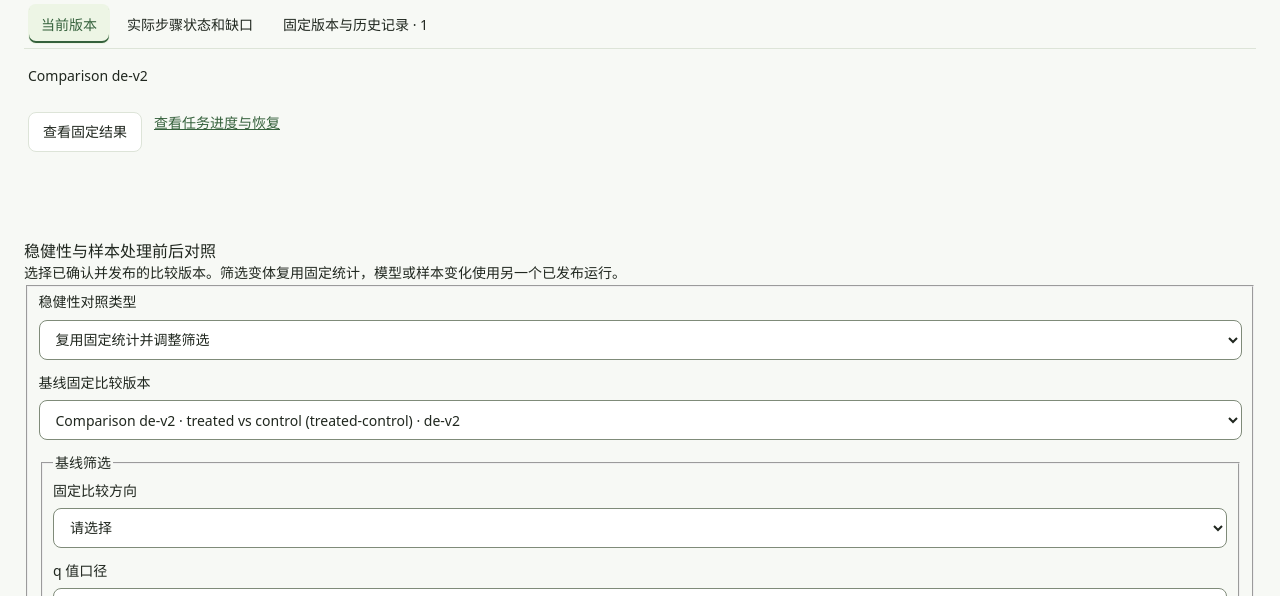
Test: reviews two fixed sensitivity modes and restores the selected alternative after reopening
The width and height of the screenshot is (1280, 596).
Earlier steps of the test are not shown.
Later steps or results of the test are not shown.
Select "treated vs control (treated-control)" in the dropdown labelled "固定比较方向" at (640, 528), box [53,508,1227,548]
(page scrolled)
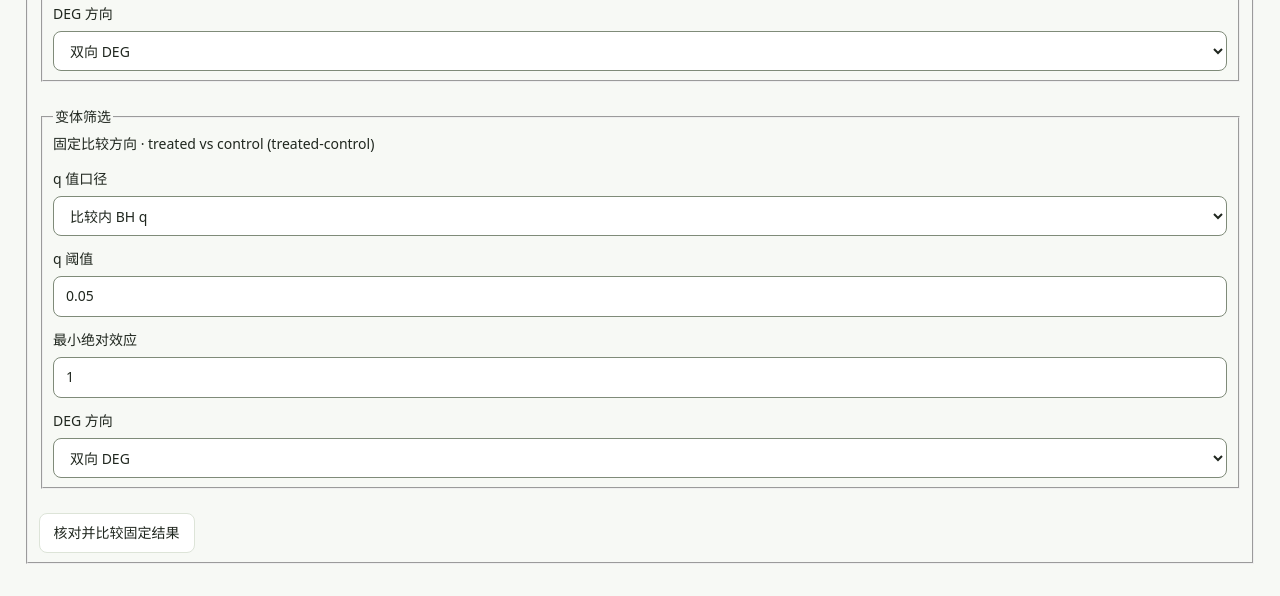
Replace the text in the number field labelled "q 阈值" below "treated vs control (treated-control)" with "0.02" at (640, 297), box [53,276,1227,317]
Click the button "核对并比较固定结果".
click(116, 533)  # box [38,513,194,553]
(page scrolled)
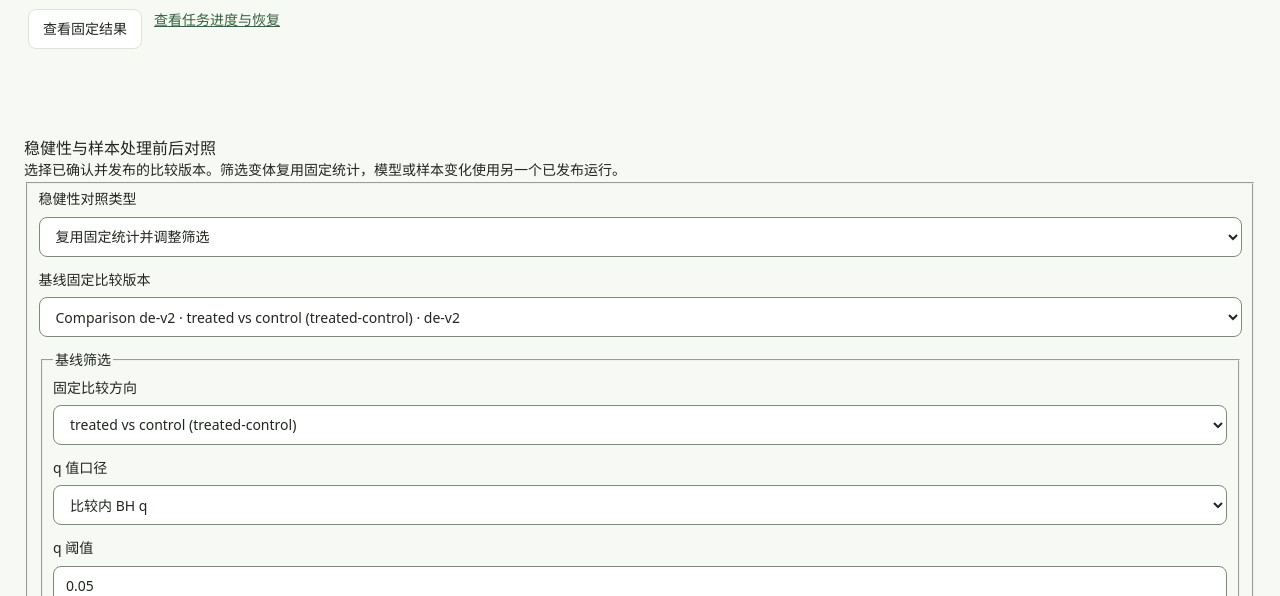
Select "比较独立固定运行与样本处理前后" in the dropdown labelled "稳健性对照类型" at (640, 237), box [38,217,1242,257]
(page scrolled)
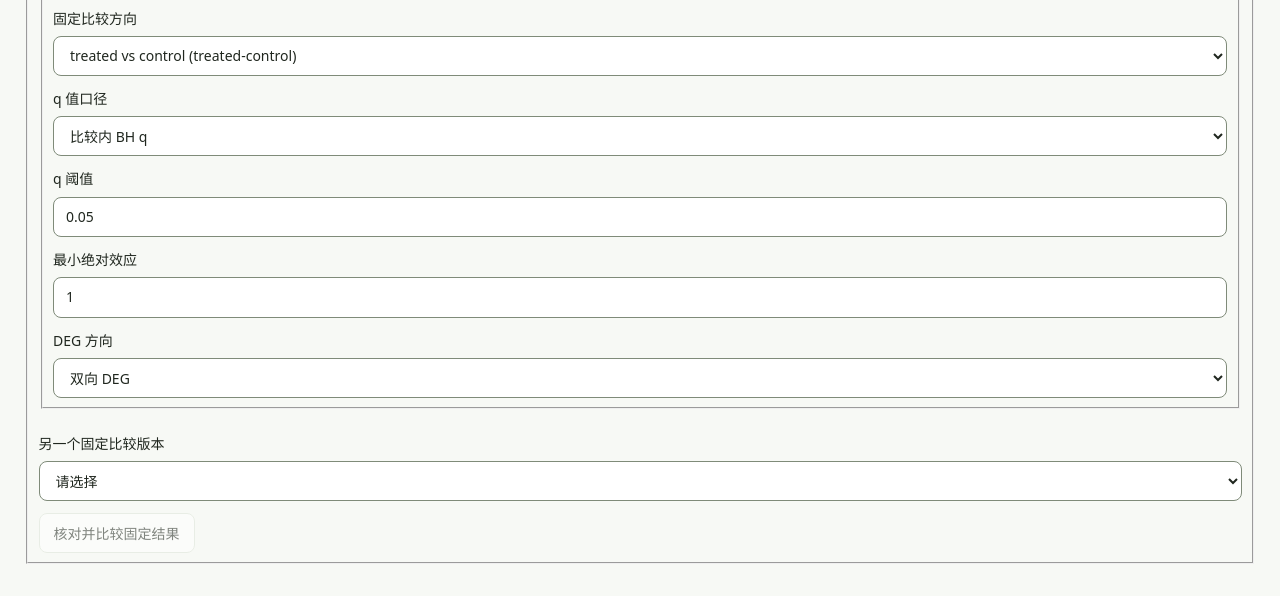
Select "Comparison de-v1 · treated vs control (variant-treated-control) · de-v1" in the dropdown labelled "另一个固定比较版本" at (640, 481), box [38,461,1242,501]
(page scrolled)
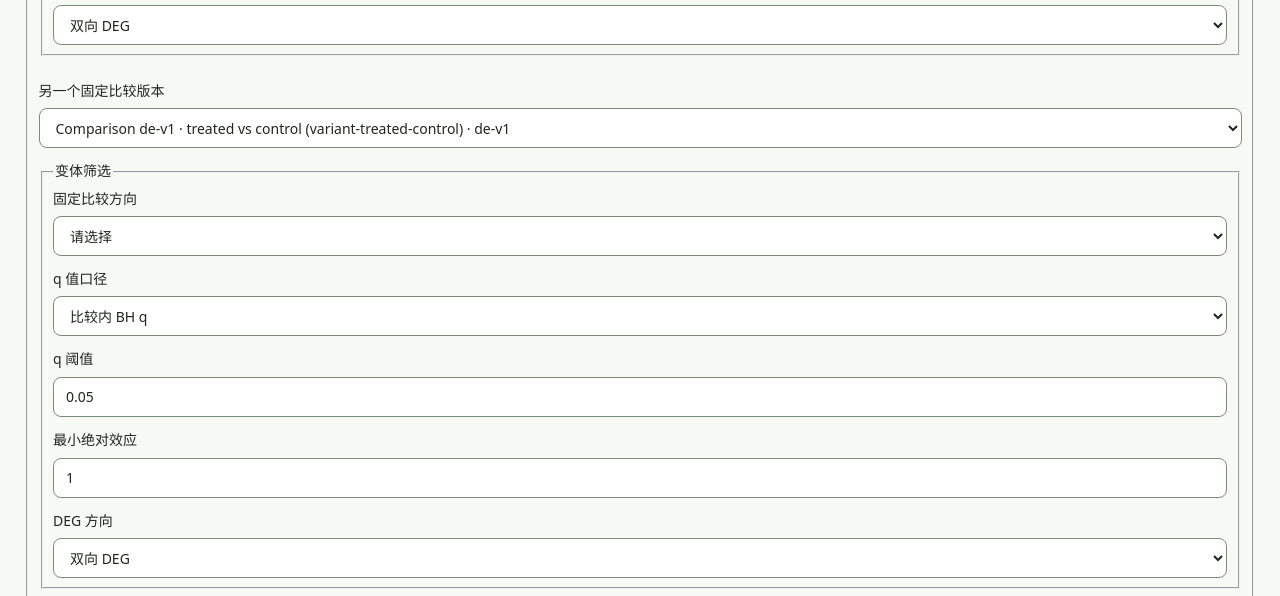
Select "treated vs control (variant-treated-control)" in the dropdown labelled "固定比较方向" at (640, 236), box [53,216,1227,256]
(page scrolled)
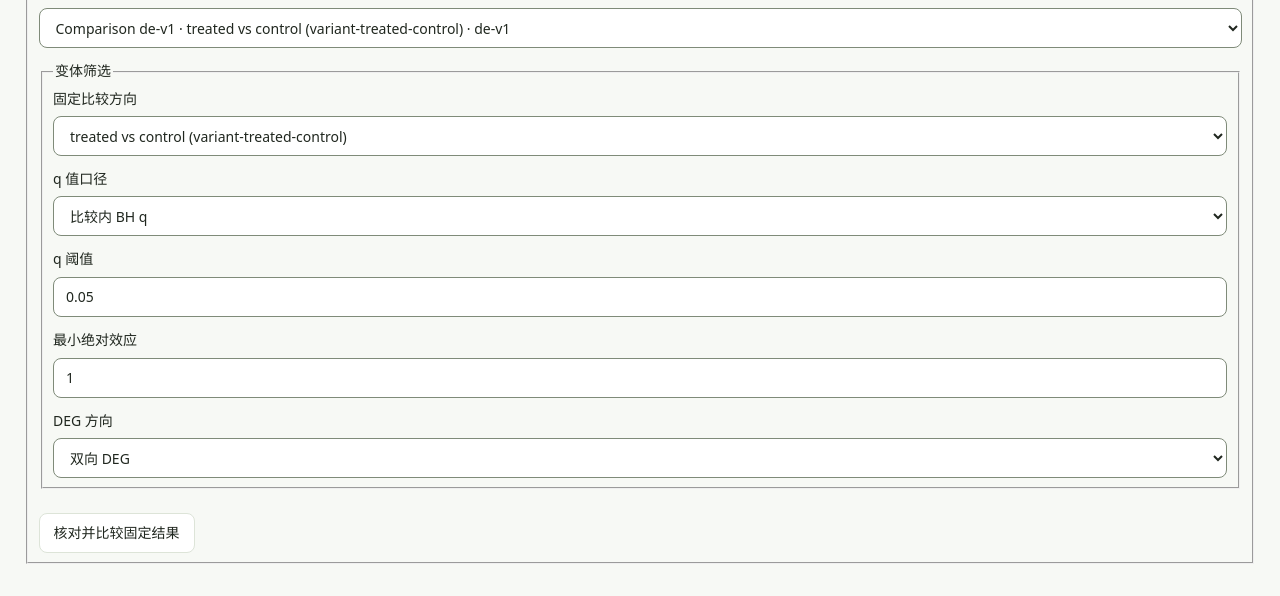
Click the button "核对并比较固定结果".
click(116, 533)  # box [38,513,194,553]
(page scrolled)
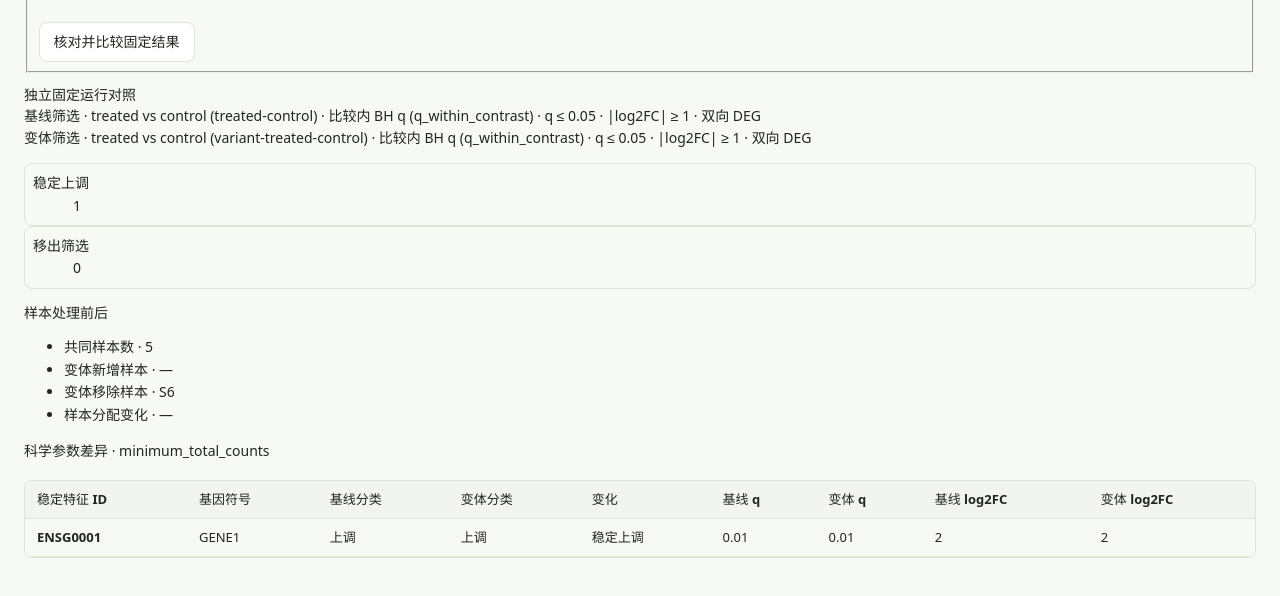
Result: the list item "变体移除样本 · S6" is shown at [64,382,175,401]
